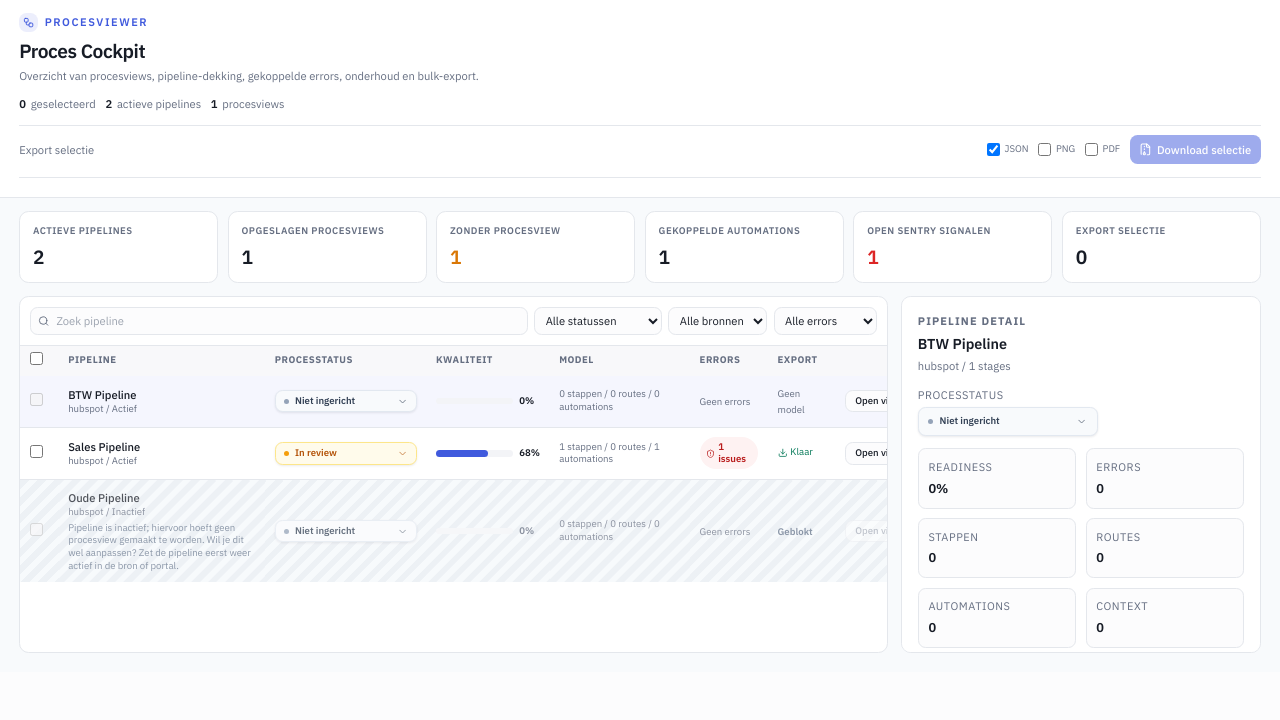
Procesviewer cockpit › filters cockpit rows by manual process status
Select "In review" in the 1st dropdown showing "Alle statussen": (598, 321) [534,307,662,336]
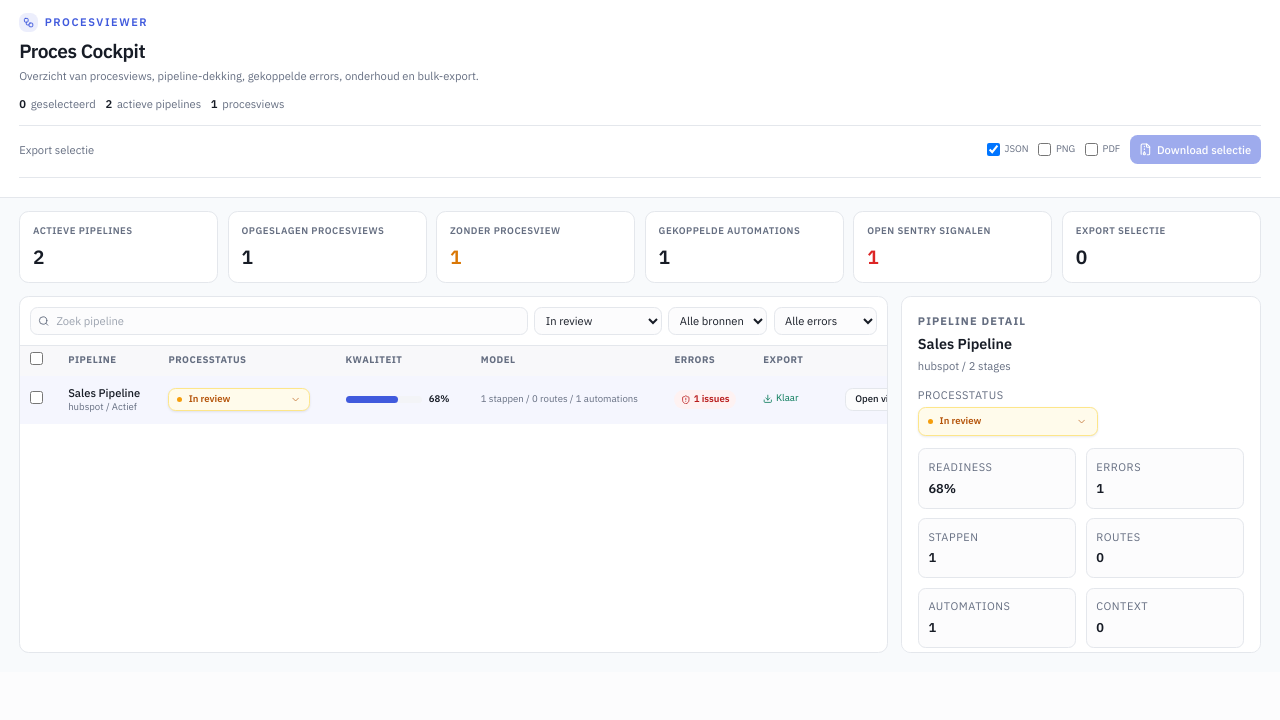
Expected: the row "Sales Pipeline" is shown, [20,376,887,424]
Now the text "BTW Pipeline" is gone
